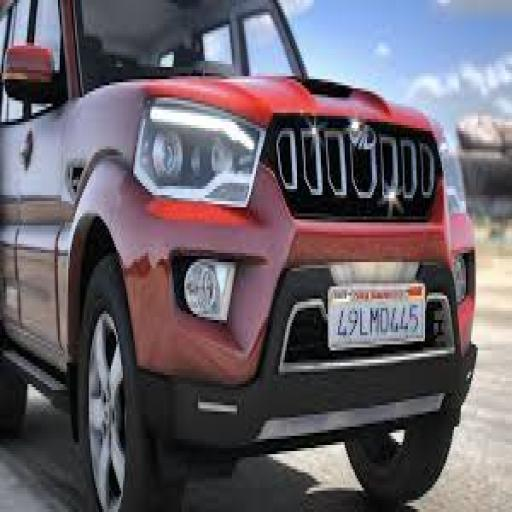car: (2, 0, 492, 506)
